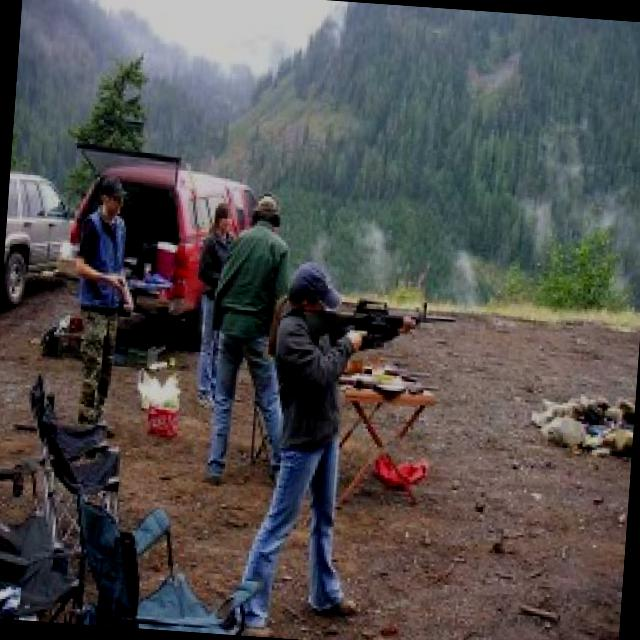long weapon: (286, 288, 475, 357)
